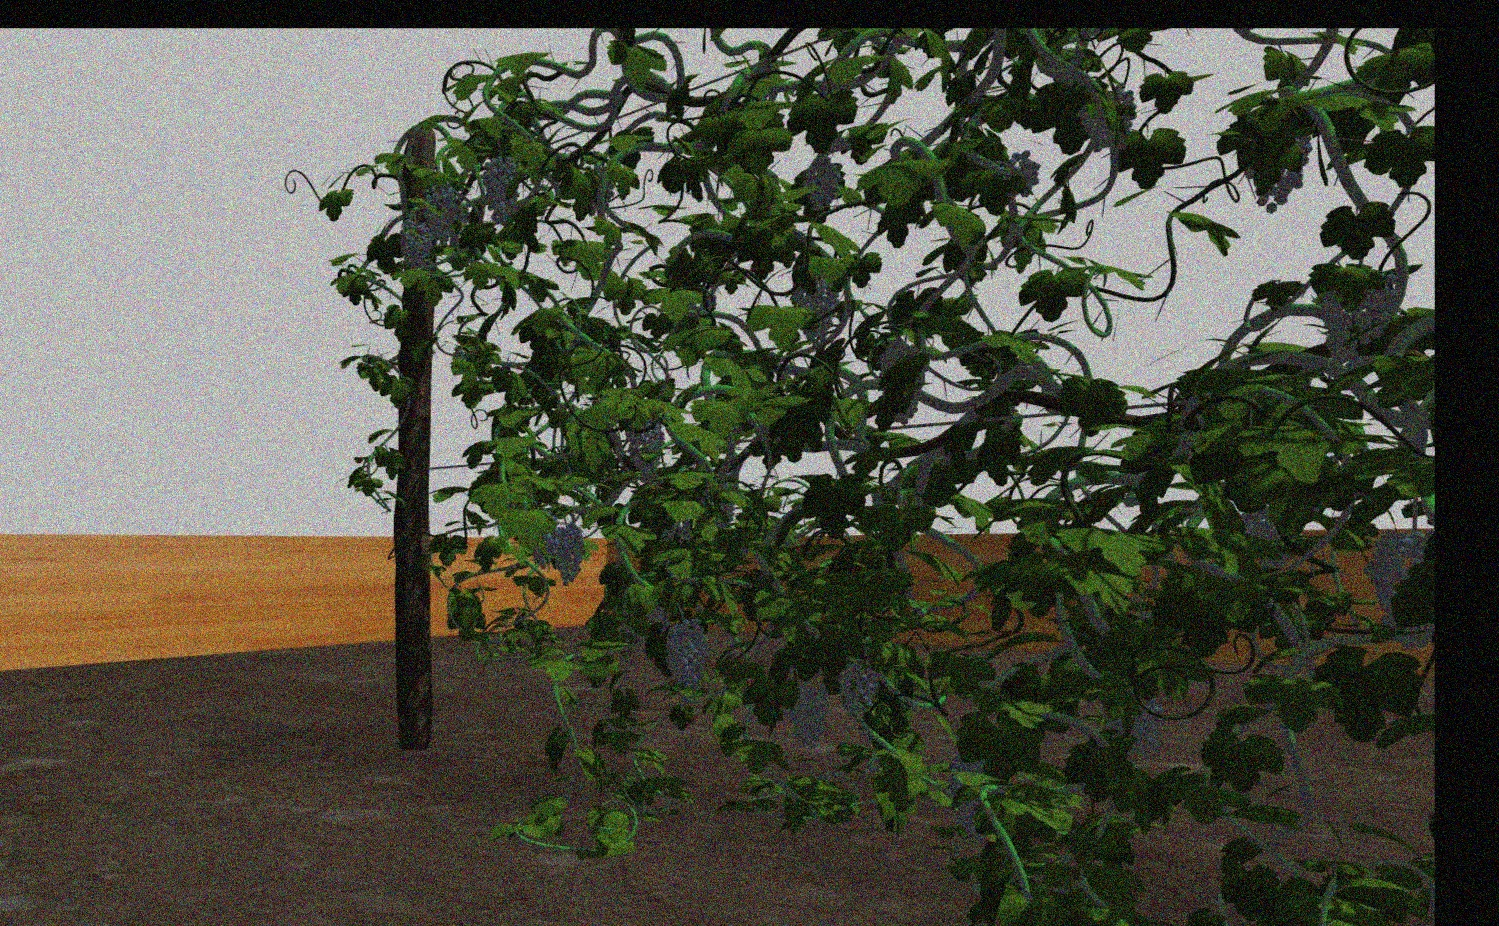grape: (1362, 527, 1430, 651), (1077, 86, 1137, 151), (1317, 284, 1360, 363), (664, 618, 710, 690), (1105, 698, 1164, 754), (781, 686, 829, 752), (1351, 280, 1400, 344), (791, 280, 841, 344), (836, 663, 880, 722), (545, 525, 586, 585), (482, 158, 517, 227), (994, 148, 1044, 194), (422, 185, 460, 244), (802, 154, 841, 207), (625, 423, 666, 471), (397, 224, 431, 271)
